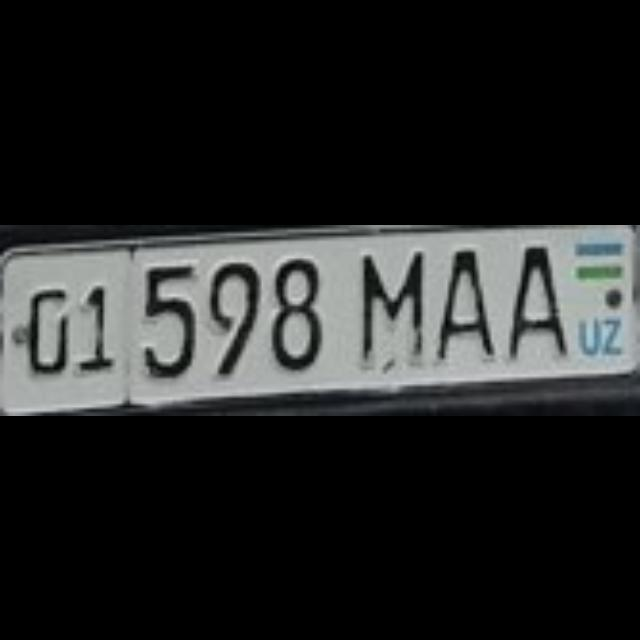0: (27, 282, 65, 366)
1: (77, 282, 111, 366)
5: (142, 258, 192, 374)
8: (268, 250, 318, 366)
9: (207, 254, 257, 370)
A: (434, 243, 494, 354), (506, 240, 564, 354)
M: (356, 246, 422, 362)
